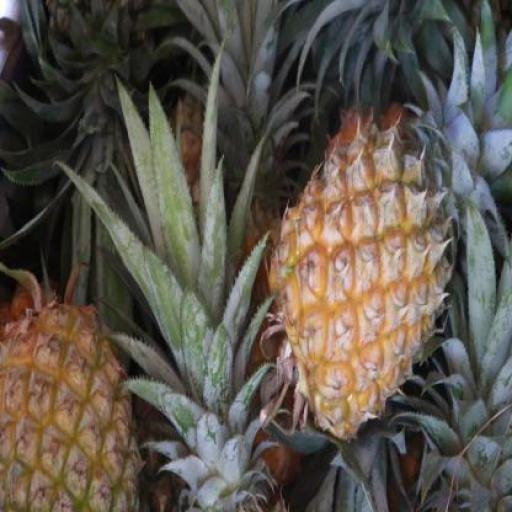------------------------------: (0, 298, 150, 511)
Pineapple - v8 v1: (268, 121, 470, 441)
